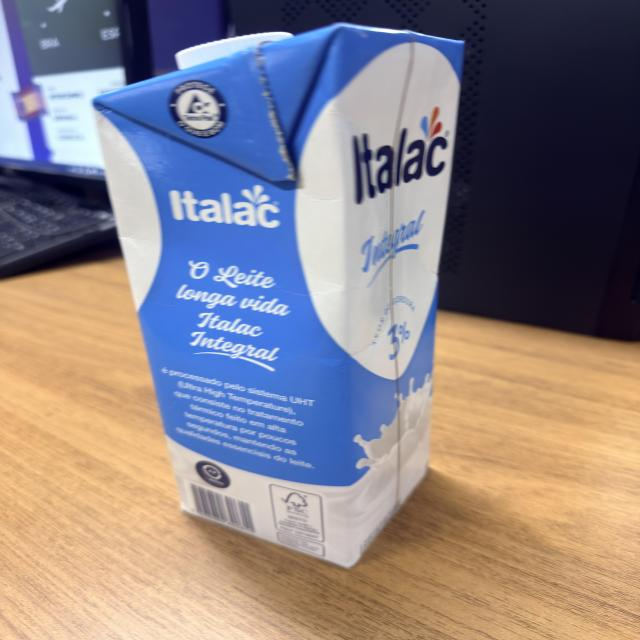Caixa de Leite: (96, 26, 460, 566)
